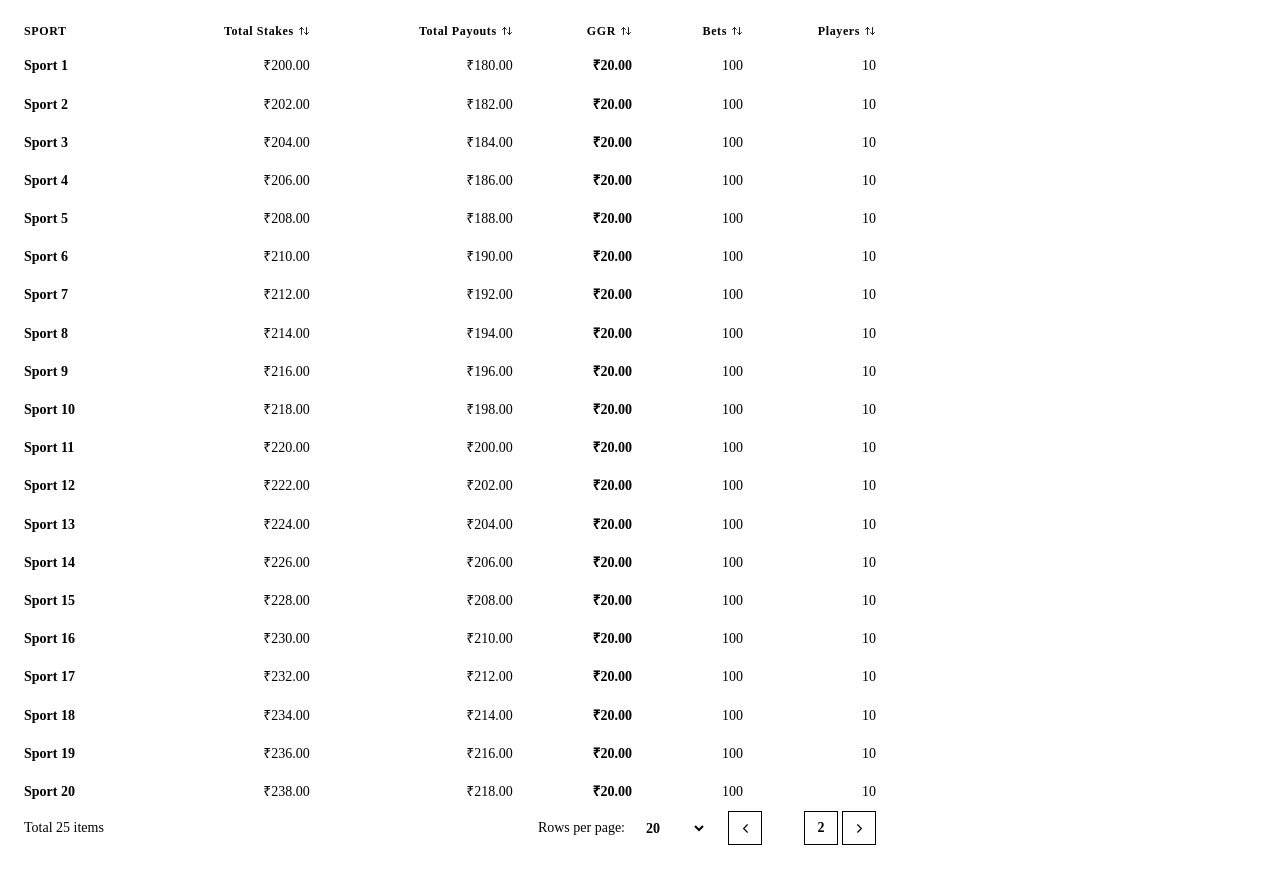
Scenario: SportsOverviewReport table › pages 20 rows at a time; a page-size change returns to page 1
(page scrolled)
Check: the text "Sport 1" is shown, box [24, 58, 68, 73]
Check: the text "Total 25 items" is shown, box [24, 818, 104, 838]
Click the button named "Page 2" at point(821, 828), box [804, 811, 838, 845]
(page scrolled)
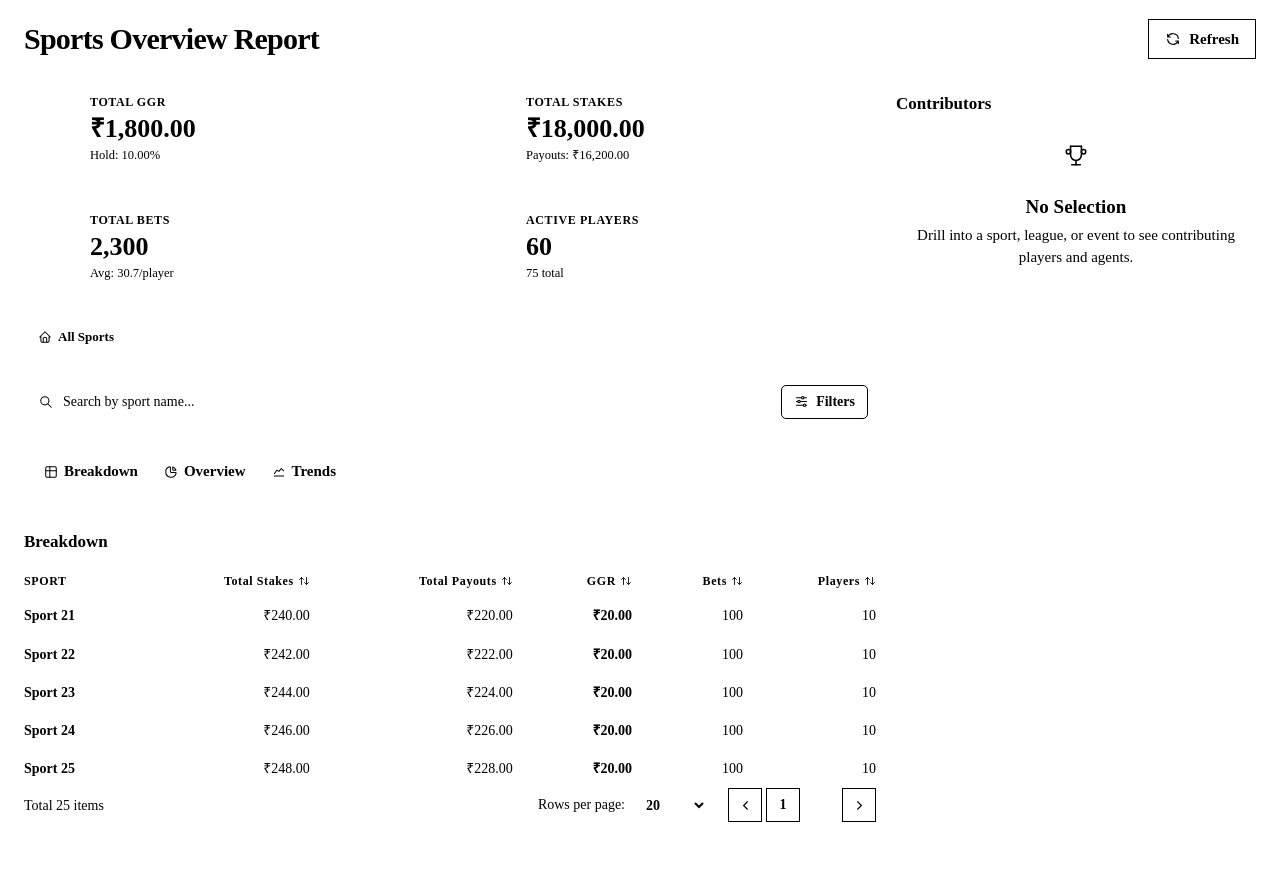
Select "10" in the dropdown labelled "Rows per page:" at point(670, 805), box [633, 788, 707, 822]
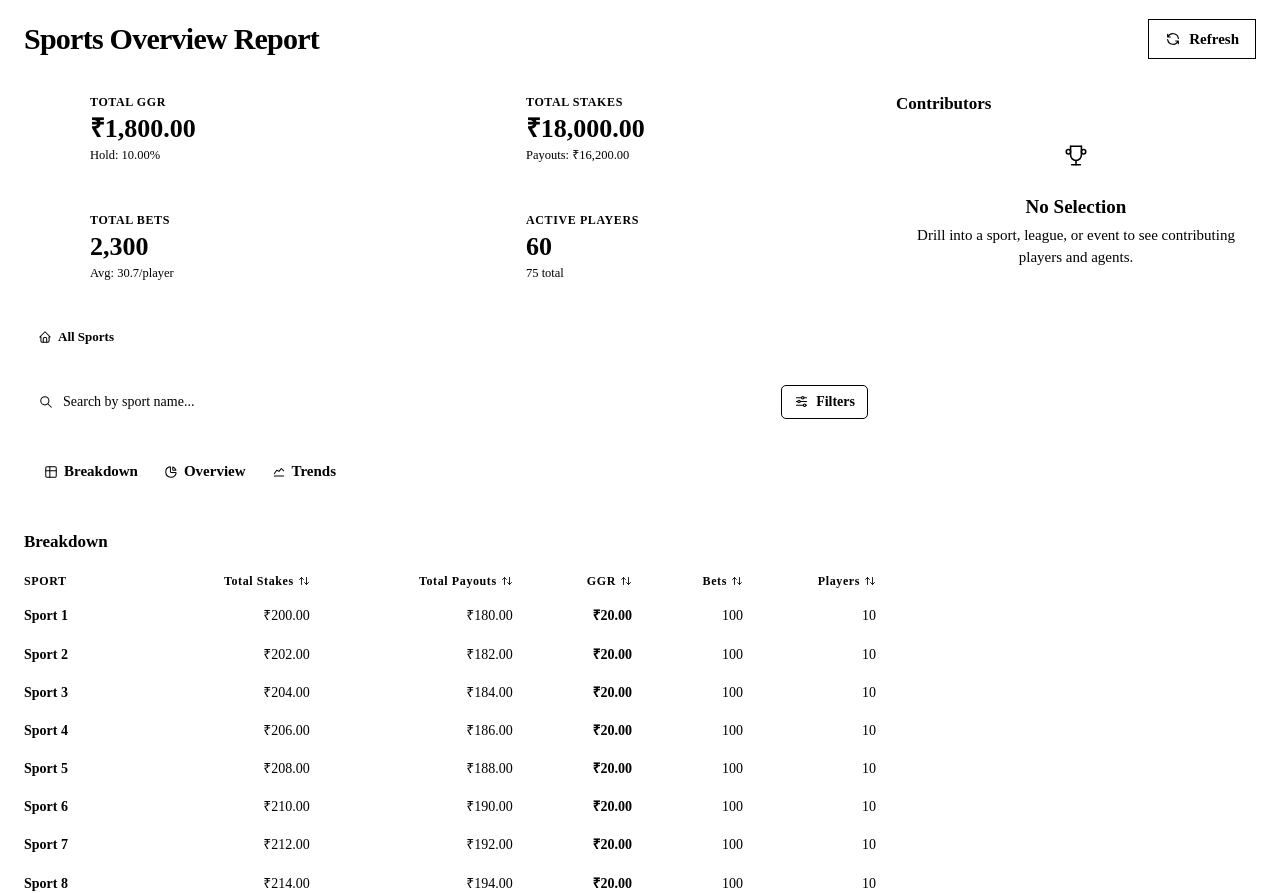
Check: the text "Sport 1" is shown, box [24, 608, 68, 623]
